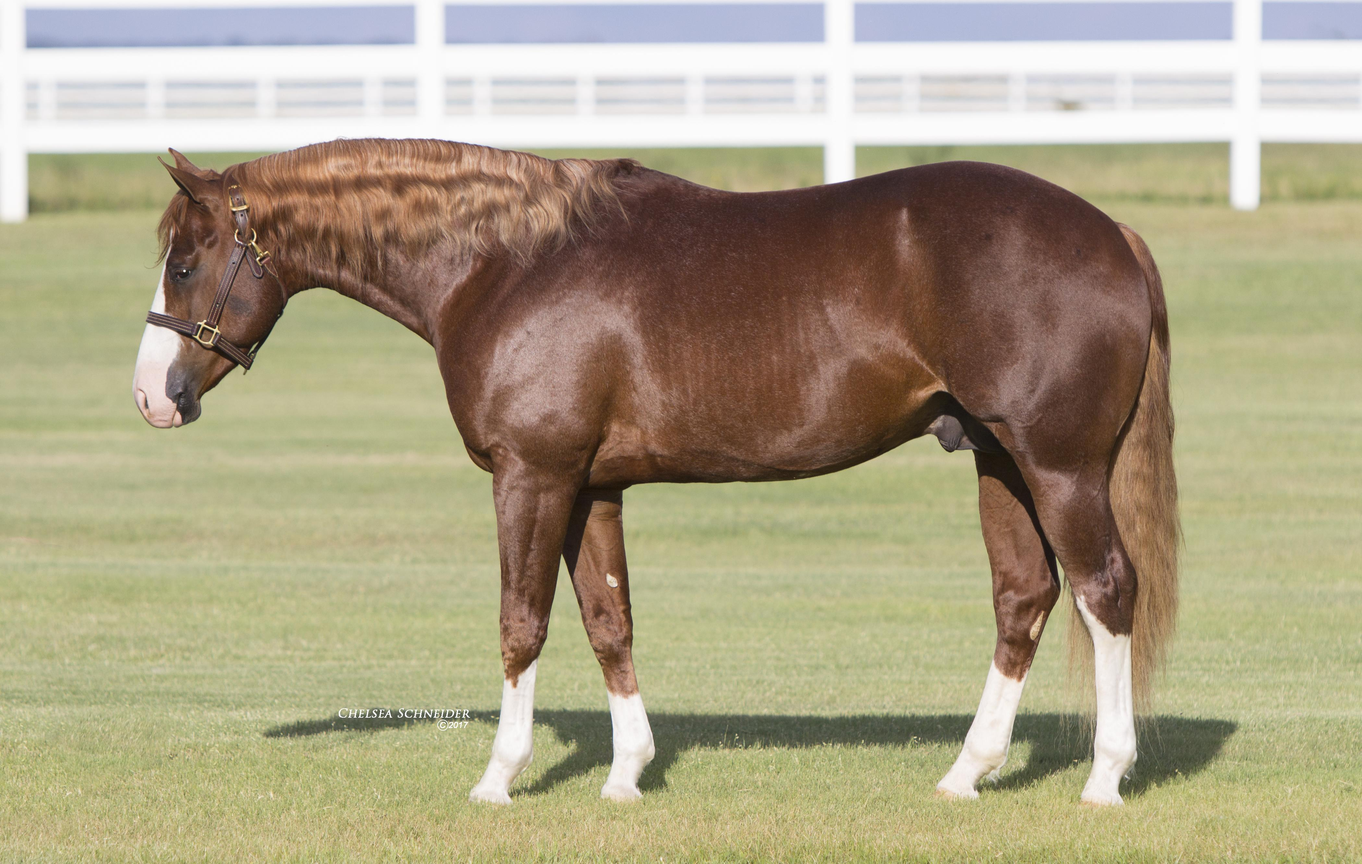horse: (121, 127, 1190, 821)
